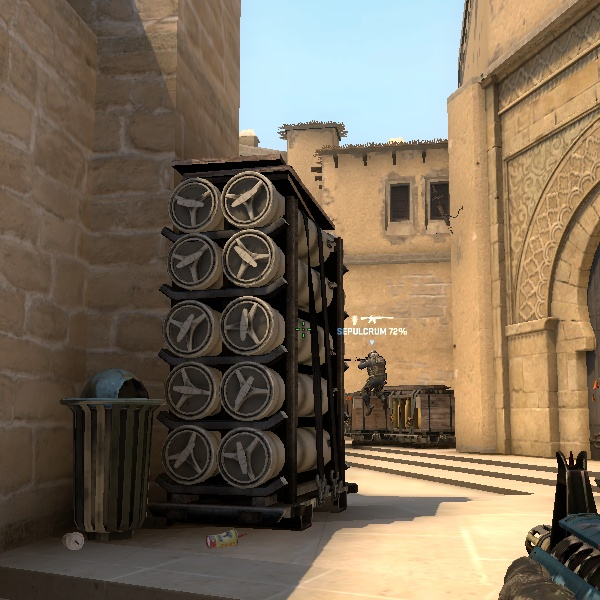ct_body: (350, 348, 396, 417)
ct_head: (364, 349, 383, 366)
